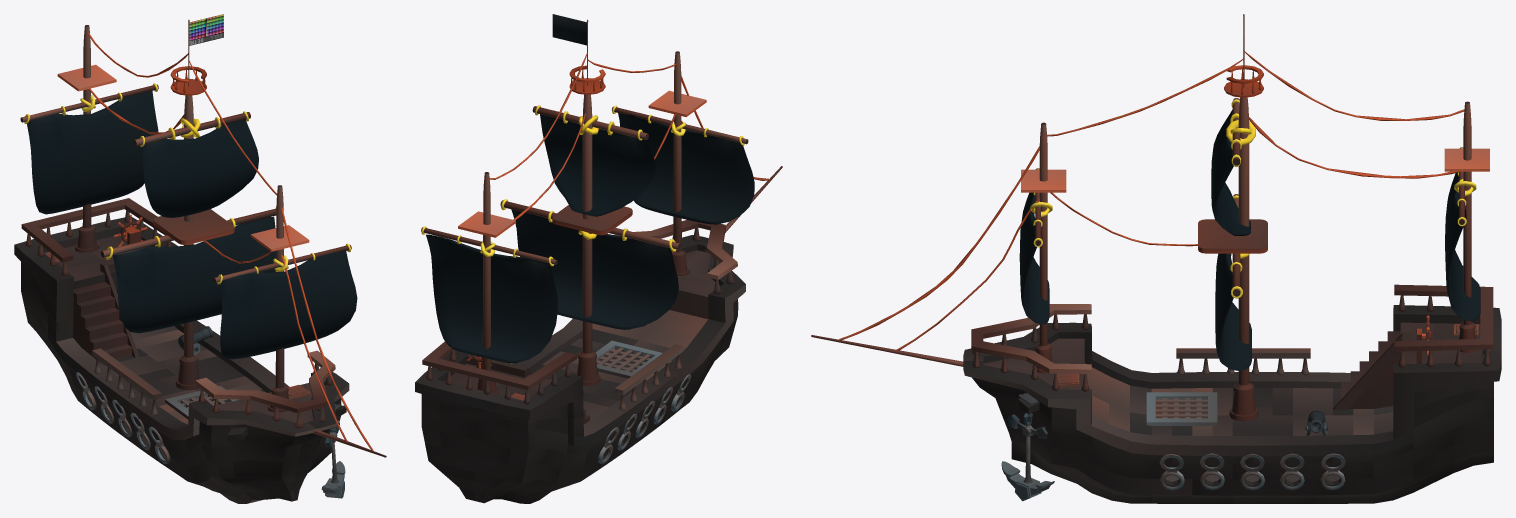
The model's file is NavioBad.fbx.
3 renders of one model, left to right at view 1: azimuth 30°, elevation 25°; view 2: azimuth 150°, elevation 25°; view 3: azimuth 270°, elevation 25°, orthographic. The views are drawn at different scales.
Visible parts, largest first — view 1: MainEvil, BackSailEvil, FrontSailEvil, MidDownSailEvil, MidUpSailEvil, SupportEvil, MainMastEvil, StairsEvil, BackMastEvil, FrontMastEvil, Ropes, MidMastClimbingSupportEvil (+5 smaller); view 2: MainEvil, BackSailEvil, MidDownSailEvil, FrontSailEvil, MidUpSailEvil, MainMastEvil, SupportEvil, FrontMastEvil, BackMastEvil, GridEvil, CannonHolesEvil, MidMastClimbingSupportEvil (+3 smaller); view 3: MainEvil, SupportEvil, MainMastEvil, Ropes, BackMastEvil, FrontMastEvil, StairsEvil, MidDownSailEvil, CannonHolesEvil, BackSailEvil, GridEvil, MidUpSailEvil (+4 smaller).
Boxes of the visible parts, x1,y1,x2,y2 form: MainEvil: (14, 217, 349, 503); BackSailEvil: (27, 91, 158, 214); FrontSailEvil: (220, 251, 357, 359); MidDownSailEvil: (113, 216, 276, 333); MidUpSailEvil: (142, 119, 258, 217); SupportEvil: (21, 198, 335, 428); MainMastEvil: (101, 14, 276, 390); StairsEvil: (73, 260, 138, 362); BackMastEvil: (20, 25, 158, 252); FrontMastEvil: (213, 185, 351, 412); Ropes: (87, 33, 373, 451); MidMastClimbingSupportEvil: (153, 209, 234, 244); MainEvil: (415, 235, 745, 503); BackSailEvil: (426, 234, 557, 363); MidDownSailEvil: (511, 209, 678, 329); FrontSailEvil: (618, 113, 754, 224); MidUpSailEvil: (540, 114, 655, 216); MainMastEvil: (500, 14, 680, 385); SupportEvil: (422, 220, 737, 404); FrontMastEvil: (612, 51, 748, 276); BackMastEvil: (421, 172, 557, 394); GridEvil: (595, 340, 662, 378); CannonHolesEvil: (598, 374, 691, 464); MidMastClimbingSupportEvil: (552, 205, 632, 235); MainEvil: (963, 305, 1501, 503); SupportEvil: (971, 284, 1493, 391); MainMastEvil: (1224, 14, 1263, 421); Ropes: (838, 51, 1464, 350); BackMastEvil: (1444, 101, 1489, 352); FrontMastEvil: (1021, 122, 1066, 373); StairsEvil: (1333, 331, 1410, 410); MidDownSailEvil: (1215, 253, 1251, 371); CannonHolesEvil: (1159, 453, 1345, 490); BackSailEvil: (1445, 172, 1480, 321); GridEvil: (1146, 392, 1217, 425); MidUpSailEvil: (1211, 109, 1251, 235).
Size of the model in its own units: 991 by 2326 by 3007.
